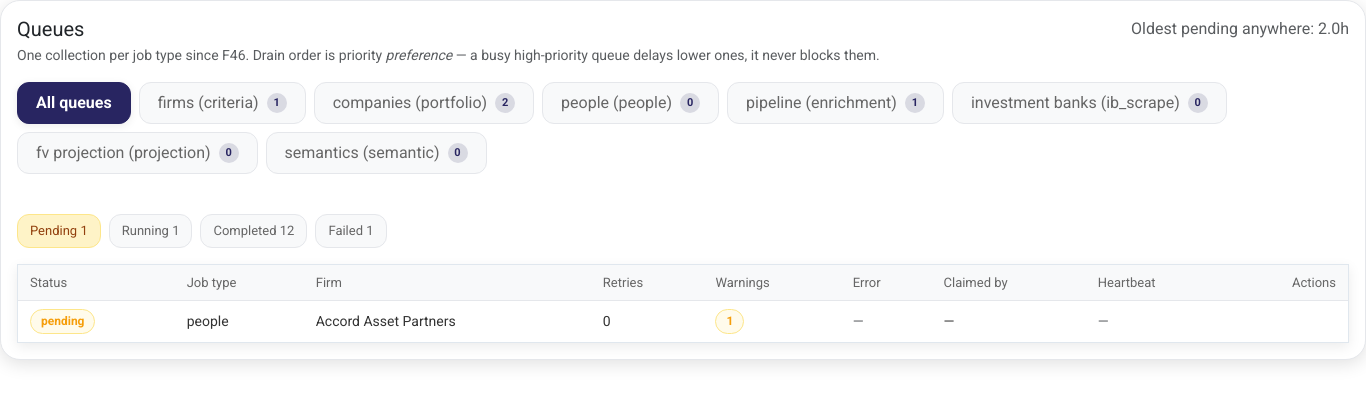
QueuesPanel tabs › fetches only the selected queue when a tab is chosen
The width and height of the screenshot is (1366, 414).
expect the tab "companies (portfolio) 2" is shown: met, box [314, 82, 534, 124]
What coordinates should you click on to do the following:
click the tab "people (people) 0"
I would click on:
 (631, 103)
Its box is [542, 82, 719, 124].
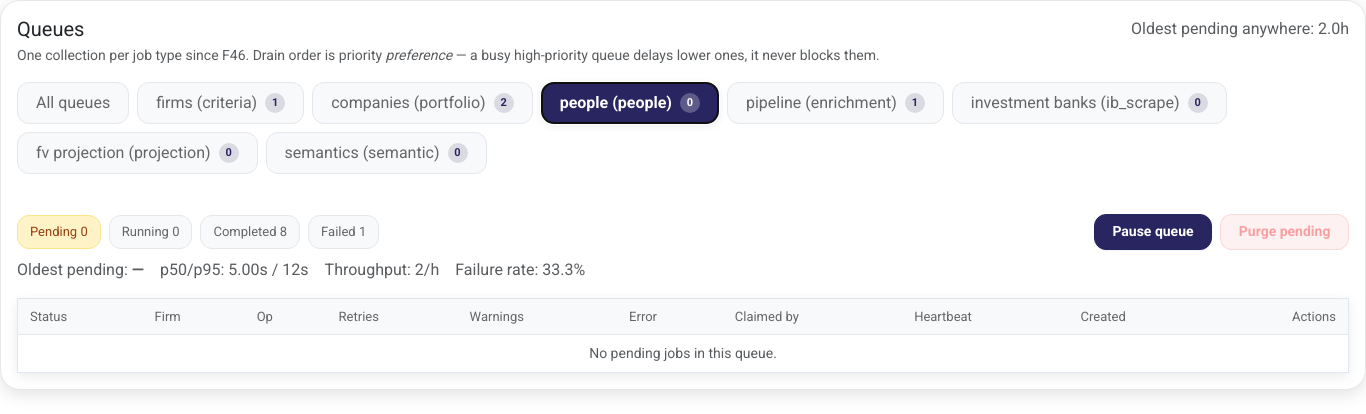
expect the text "No pending jobs in this queue." is shown: met, box [18, 335, 1348, 372]
